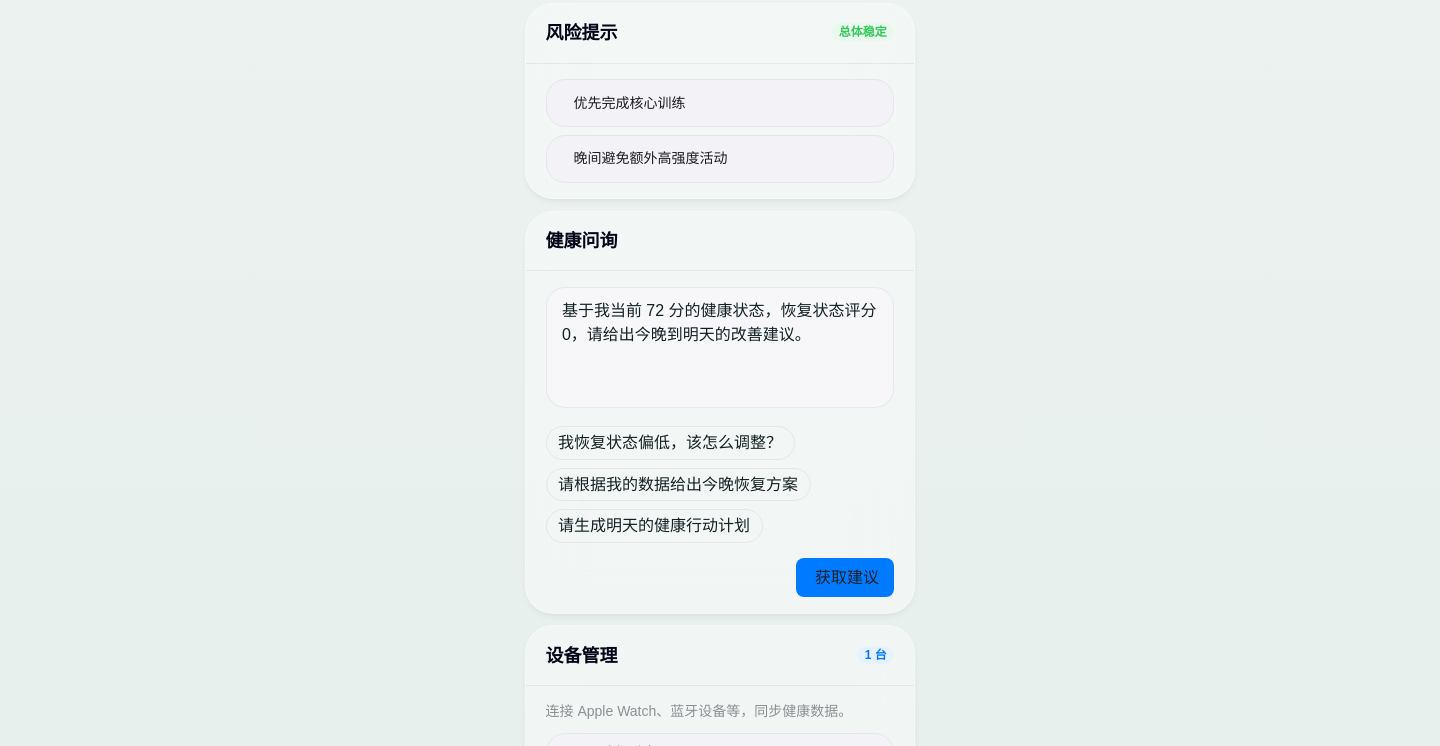
Test: HomePage › submits consult question and renders AI response
(page scrolled)
Expected: the heading "健康问询" is shown, [546, 227, 618, 255]
Step 1. Replace the text in the text box with placeholder "例如：下午总是疲劳怎么办？" with "下午总是疲劳怎么办？" → (720, 347), box [546, 287, 894, 408]
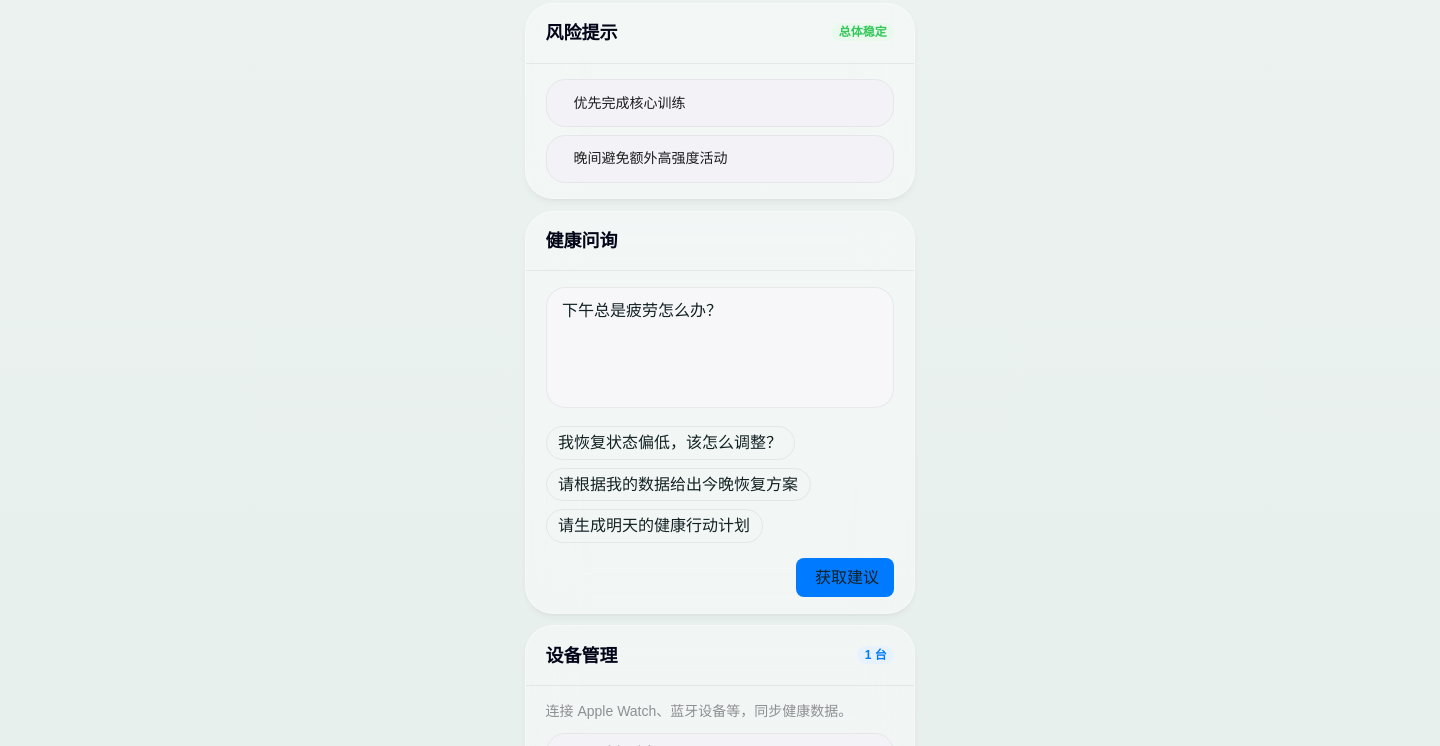
Step 2. Click the button "获取建议" → (845, 578), box [796, 558, 894, 597]
(page scrolled)
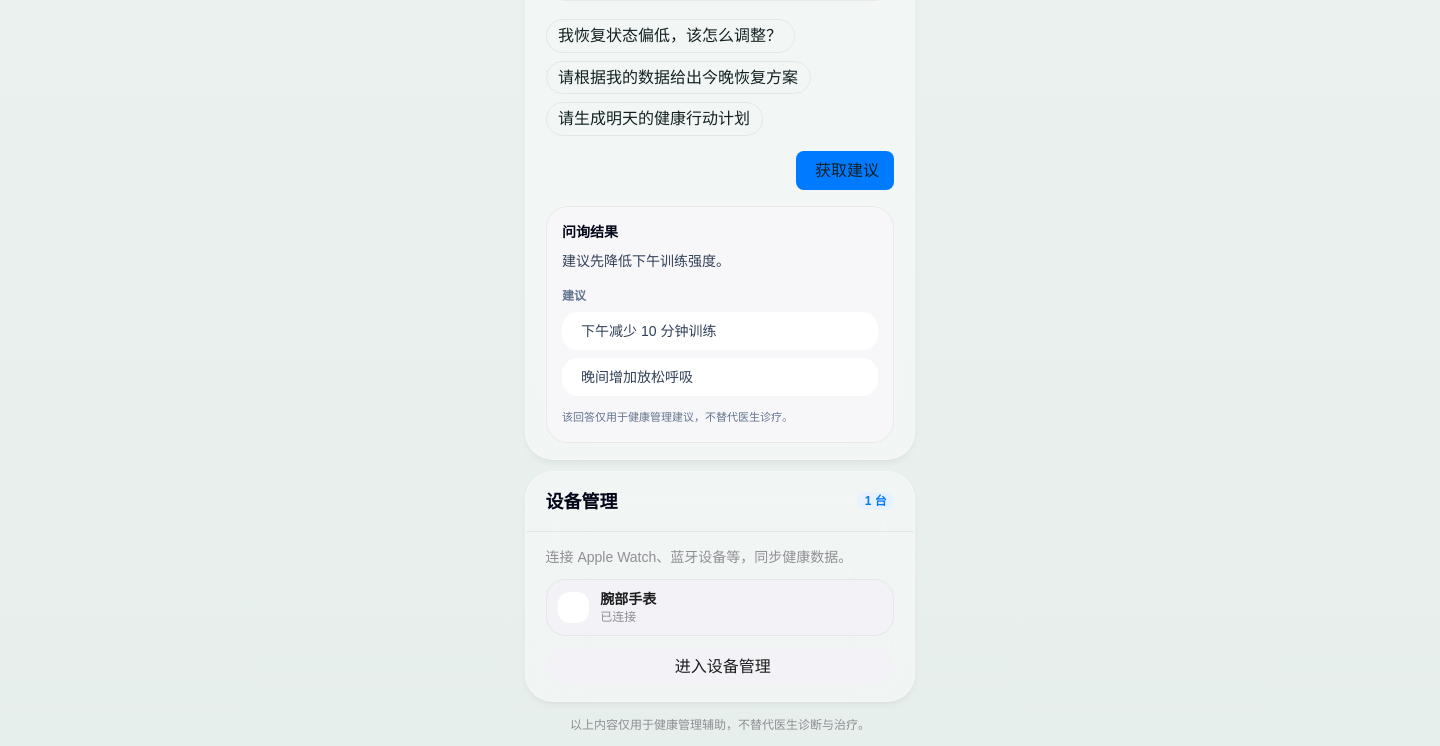
Now the text "建议先降低下午训练强度。" is shown, box [562, 253, 730, 269]
Now the text "晚间增加放松呼吸" is shown, box [581, 366, 693, 389]
